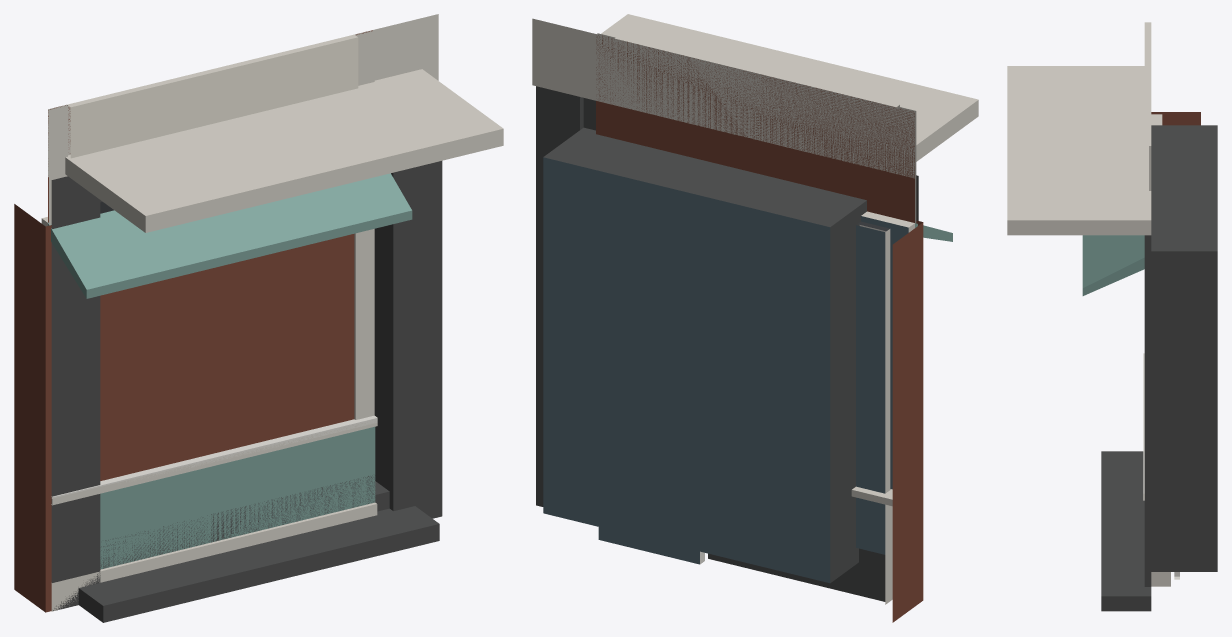
Rendered from ribbon.glb.
3 renders of one model, left to right at view 1: azimuth 30°, elevation 25°; view 2: azimuth 150°, elevation 25°; view 3: azimuth 270°, elevation 25°, orthographic. The views are drawn at different scales.
Visible parts, largest first — view 1: ribbon_entrance, ribbon_blank, ribbon_shop, ribbon_bay, ribbon_cap, ribbon_ground_blank, ribbon_bay_hood, ribbon_corner, ribbon_pier; view 2: ribbon_entrance, ribbon_ground_blank, ribbon_shop, ribbon_corner, ribbon_bay; view 3: ribbon_entrance, ribbon_bay_hood, ribbon_shop, ribbon_corner, ribbon_bay.
Part boxes in pixels (x1=…): ribbon_entrance: x1=48, y1=14, x2=503, y2=622; ribbon_blank: x1=100, y1=234, x2=354, y2=480; ribbon_shop: x1=49, y1=31, x2=374, y2=419; ribbon_bay: x1=41, y1=217, x2=377, y2=611; ribbon_cap: x1=51, y1=420, x2=377, y2=569; ribbon_ground_blank: x1=48, y1=30, x2=374, y2=569; ribbon_bay_hood: x1=48, y1=173, x2=412, y2=298; ribbon_corner: x1=14, y1=204, x2=51, y2=612; ribbon_pier: x1=100, y1=292, x2=112, y2=463; ribbon_entrance: x1=532, y1=14, x2=978, y2=583; ribbon_ground_blank: x1=596, y1=35, x2=914, y2=222; ribbon_shop: x1=597, y1=33, x2=916, y2=604; ribbon_corner: x1=892, y1=220, x2=923, y2=622; ribbon_bay: x1=861, y1=211, x2=914, y2=489; ribbon_entrance: x1=1007, y1=66, x2=1217, y2=611; ribbon_bay_hood: x1=1082, y1=235, x2=1144, y2=295; ribbon_shop: x1=1144, y1=22, x2=1179, y2=586; ribbon_corner: x1=1151, y1=112, x2=1200, y2=125; ribbon_bay: x1=1143, y1=114, x2=1162, y2=493.
Size of what is drawn, in the model's own units: 3.65 by 4.4 by 1.9.
